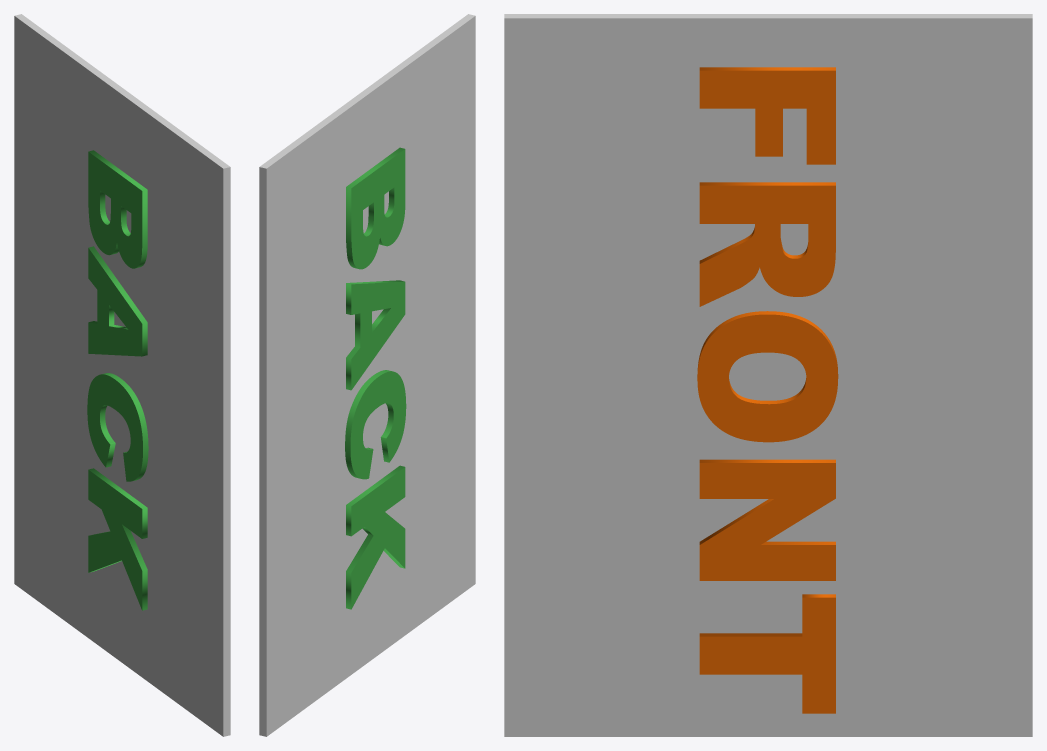
The model's file is chessboard_frontAndBack_white.fbx.
3 views of the same model, side by side, from view 1: azimuth 30°, elevation 25°; view 2: azimuth 150°, elevation 25°; view 3: azimuth 270°, elevation 25° (orthographic). The views are drawn at different scales.
Visible parts, largest first — view 1: chessboard, BACK; view 2: chessboard, BACK; view 3: chessboard, FRONT.
Boxes of the visible parts, bbox=[...] form: chessboard: bbox=[14, 14, 230, 736]; BACK: bbox=[87, 150, 148, 610]; chessboard: bbox=[259, 14, 475, 736]; BACK: bbox=[345, 147, 406, 609]; chessboard: bbox=[504, 14, 1032, 736]; FRONT: bbox=[697, 67, 838, 713].
Bounding box in the file's own units: 10 × 200 × 300.
